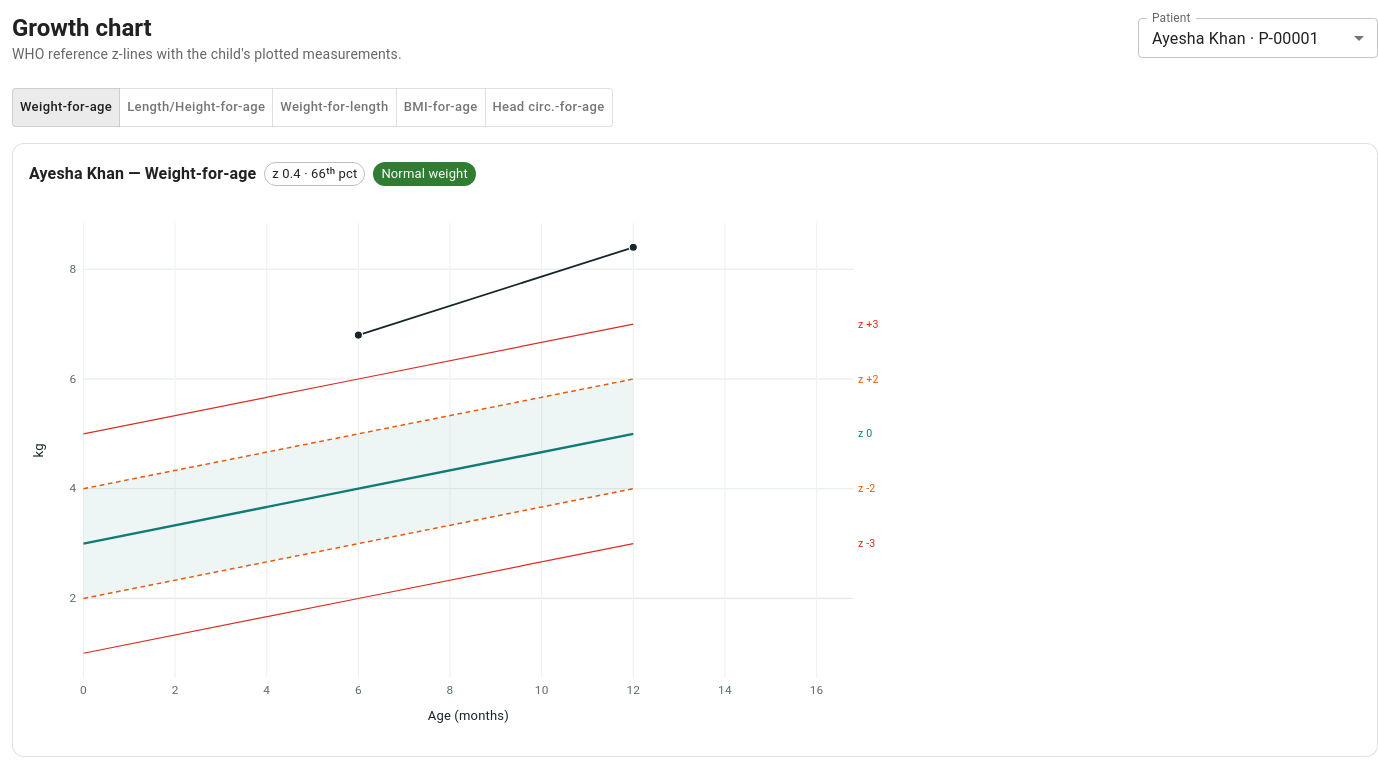
the chip colour is the server’s verdict, not a client rule › paints "Risk of overweight" amber at z 1.48, where a |z| ≤ 2 rule would paint it green
Check: the text "Normal weight" is shown, box x1=381 y1=166 x2=468 y2=181
Click the button "BMI-for-age".
click(441, 107)  # box x1=396 y1=88 x2=486 y2=127
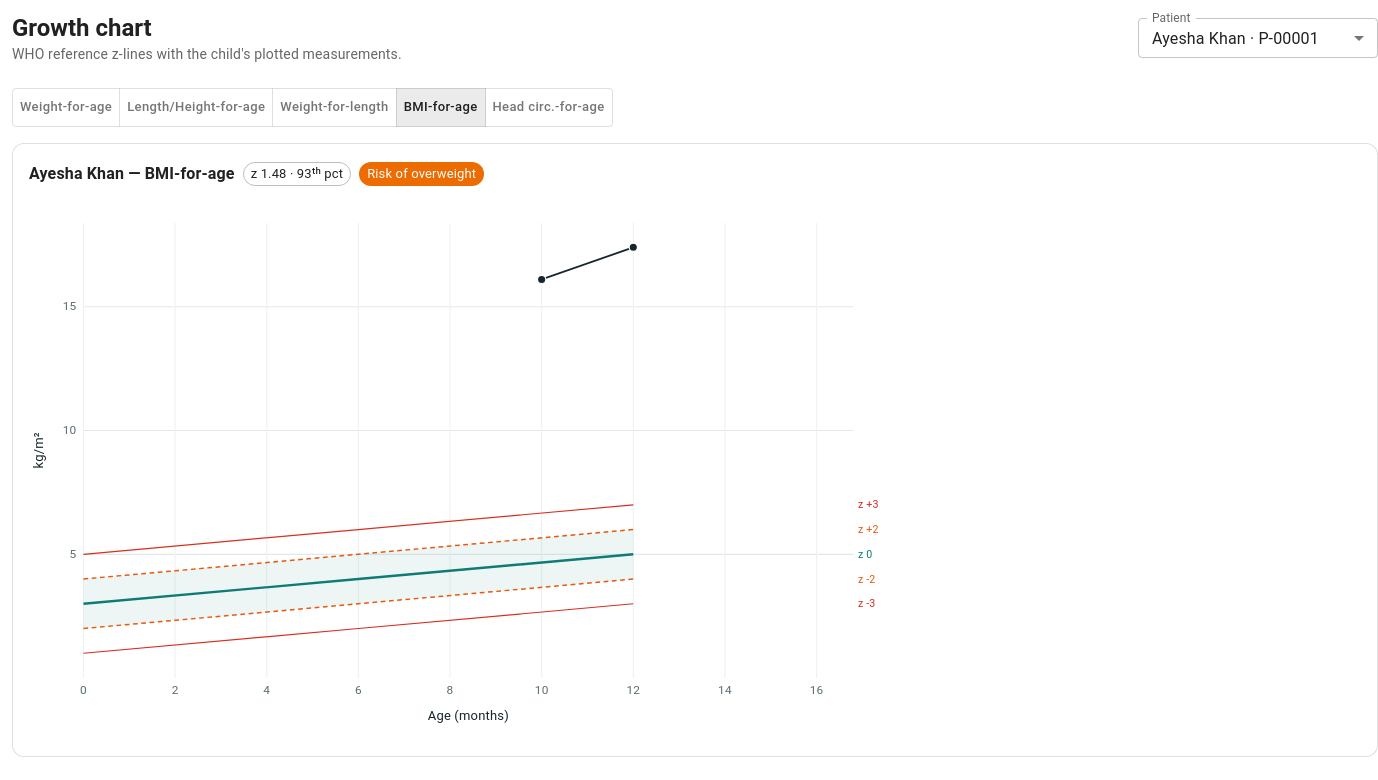
Check: the text "Risk of overweight" is shown, box x1=359 y1=164 x2=484 y2=184
